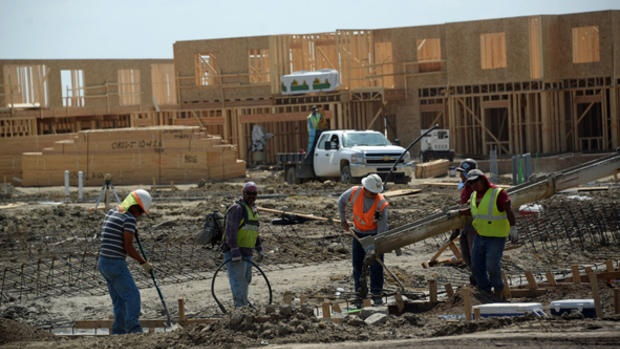red: (239, 180, 259, 204)
white: (122, 186, 154, 221), (360, 172, 384, 199)
